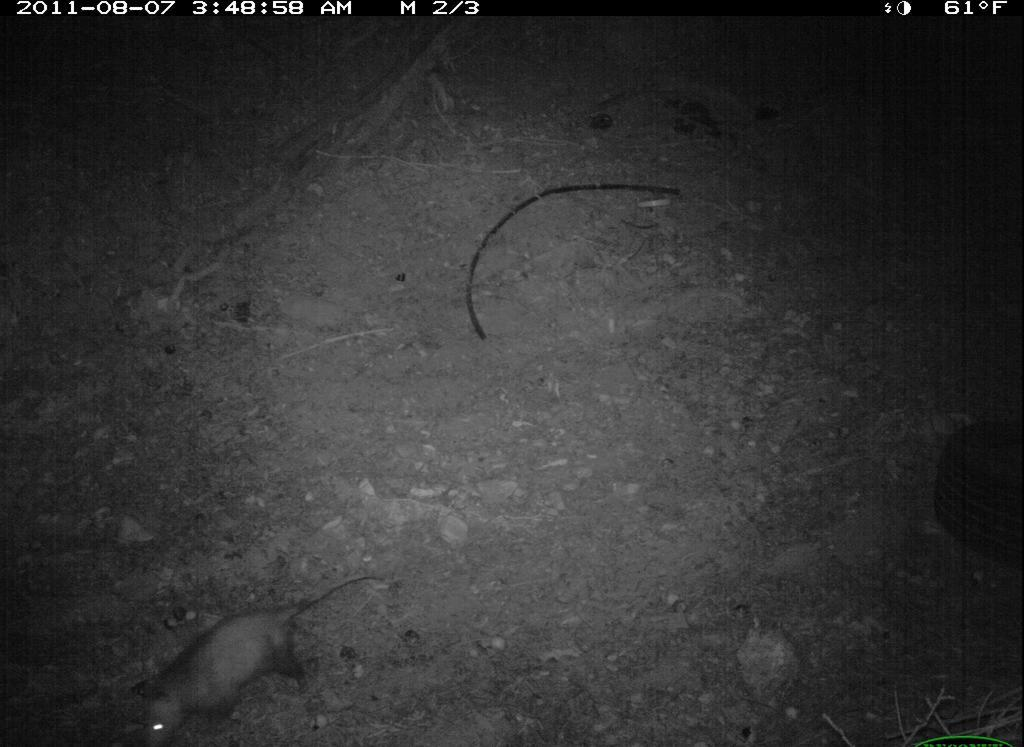opossum: (114, 570, 402, 744)
